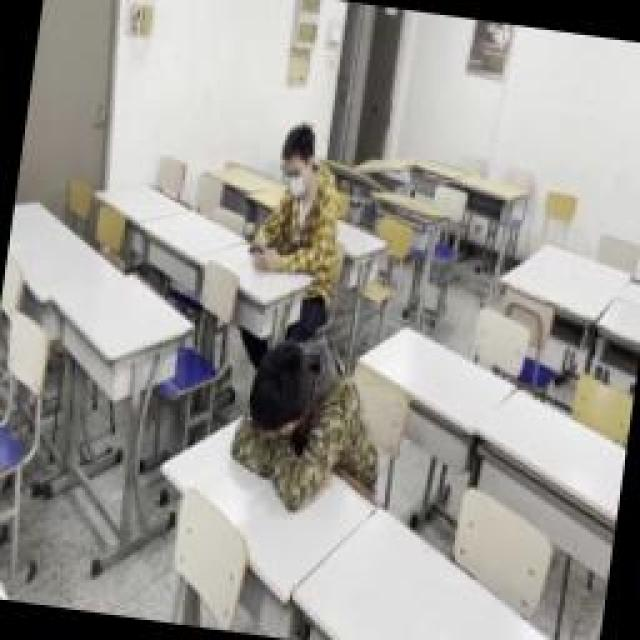phone: (245, 118, 353, 292)
sleep: (225, 330, 397, 518)
